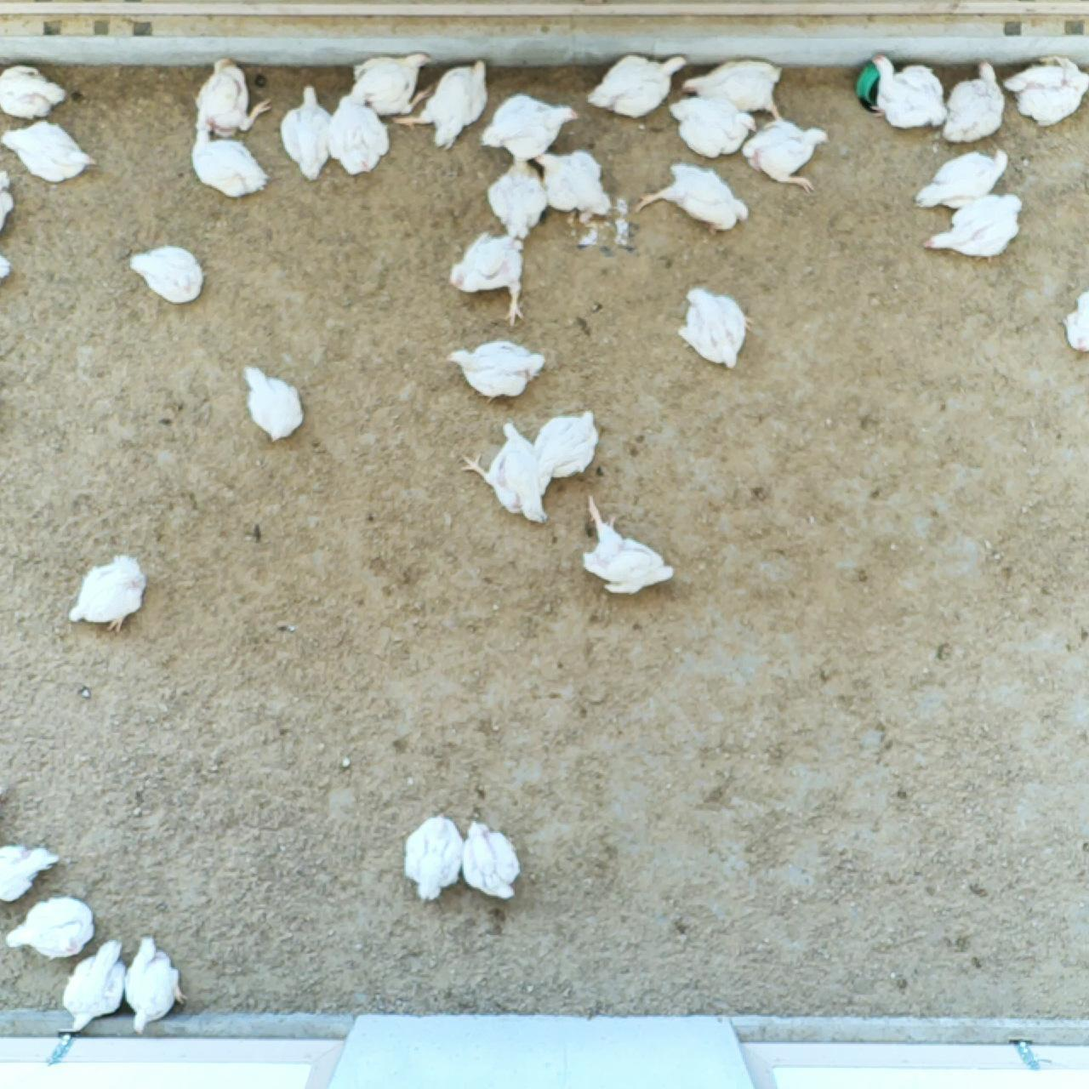chicken: (579, 498, 676, 597), (461, 421, 545, 526), (446, 227, 530, 328), (394, 56, 490, 143), (637, 165, 748, 232), (684, 60, 789, 127), (120, 937, 187, 1035), (923, 196, 1021, 263), (66, 556, 150, 634), (679, 291, 758, 371), (446, 342, 548, 402), (589, 54, 685, 117), (189, 123, 271, 194), (402, 811, 463, 905), (1, 122, 98, 181), (868, 55, 949, 125), (741, 122, 828, 187), (1006, 55, 1087, 123), (191, 60, 271, 128), (60, 944, 123, 1029), (669, 94, 753, 157), (540, 148, 612, 220), (487, 94, 573, 154), (278, 84, 332, 179), (4, 893, 93, 950), (939, 61, 1004, 139), (241, 368, 308, 442), (351, 56, 430, 118), (458, 819, 523, 894), (333, 88, 390, 173), (916, 155, 1008, 207), (485, 157, 549, 231), (127, 246, 205, 303), (1, 61, 69, 120), (536, 413, 597, 476), (3, 829, 46, 905), (1068, 288, 1089, 353), (1, 168, 16, 232), (1, 238, 11, 284)
